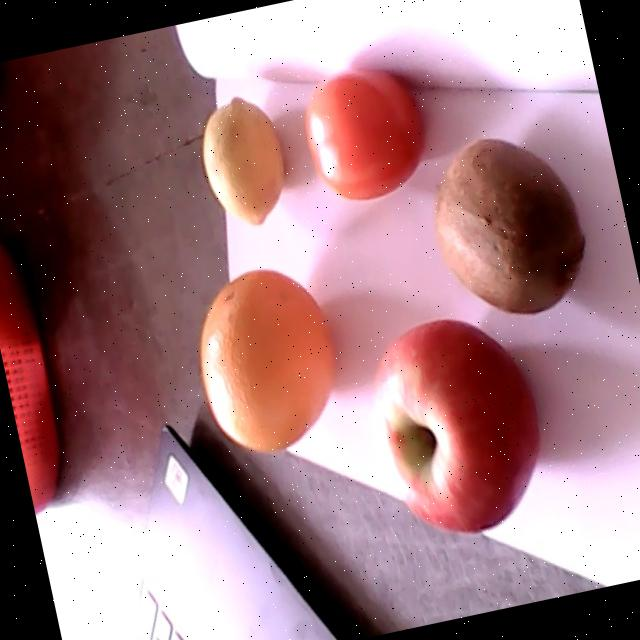apple: (371, 319, 537, 531)
kiwi: (431, 138, 585, 311)
lemon: (201, 98, 282, 225)
orange: (199, 267, 335, 450)
tomato: (305, 67, 422, 200)
